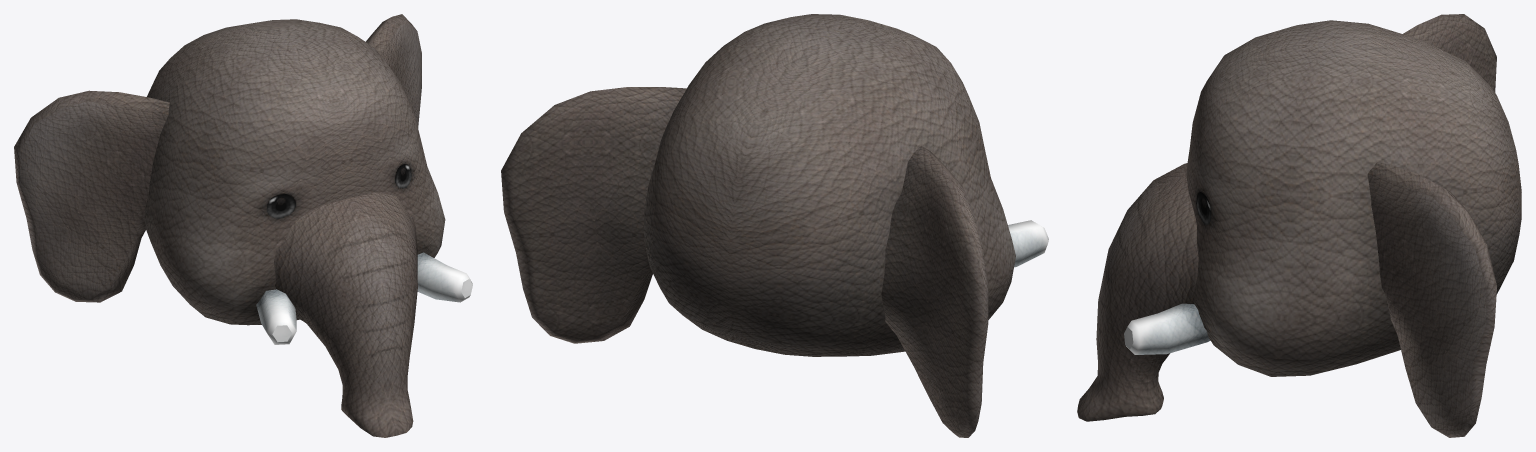
The model's file is CRT0110010.FBX.
3 views of the same model, side by side, from view 1: azimuth 30°, elevation 25°; view 2: azimuth 150°, elevation 25°; view 3: azimuth 270°, elevation 25° (orthographic). The views are drawn at different scales.
Parts seen in each view (by area): view 1: smCRT0110010; view 2: smCRT0110010; view 3: smCRT0110010.
Boxes of the visible parts, <box> form: smCRT0110010: <box>14,14,472,437</box>; smCRT0110010: <box>501,14,1048,437</box>; smCRT0110010: <box>1077,14,1521,437</box>.
Size of the model in its own units: 0.4117 by 0.3078 by 0.3367.
Materials: 1 (1 with a texture image).
